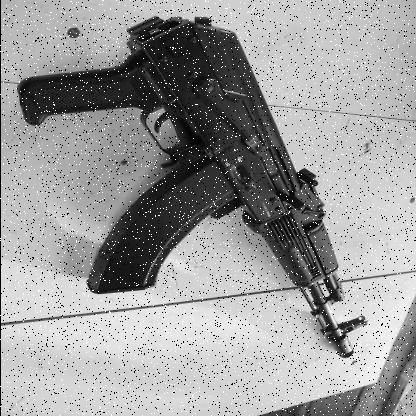rifle: (14, 14, 372, 384)
